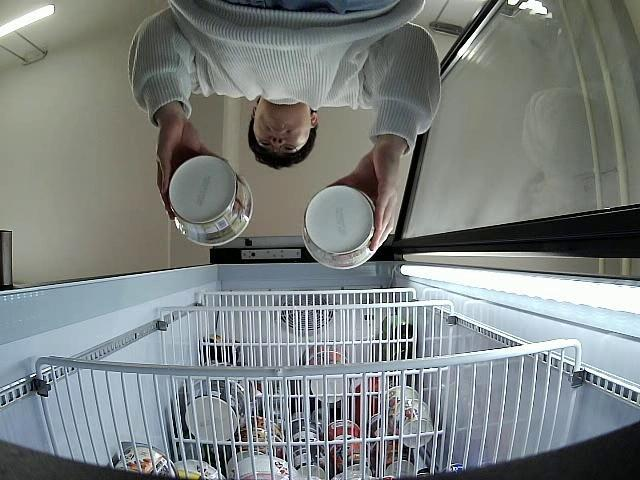03_chapagetti_L: (168, 156, 255, 248), (304, 186, 378, 270)
